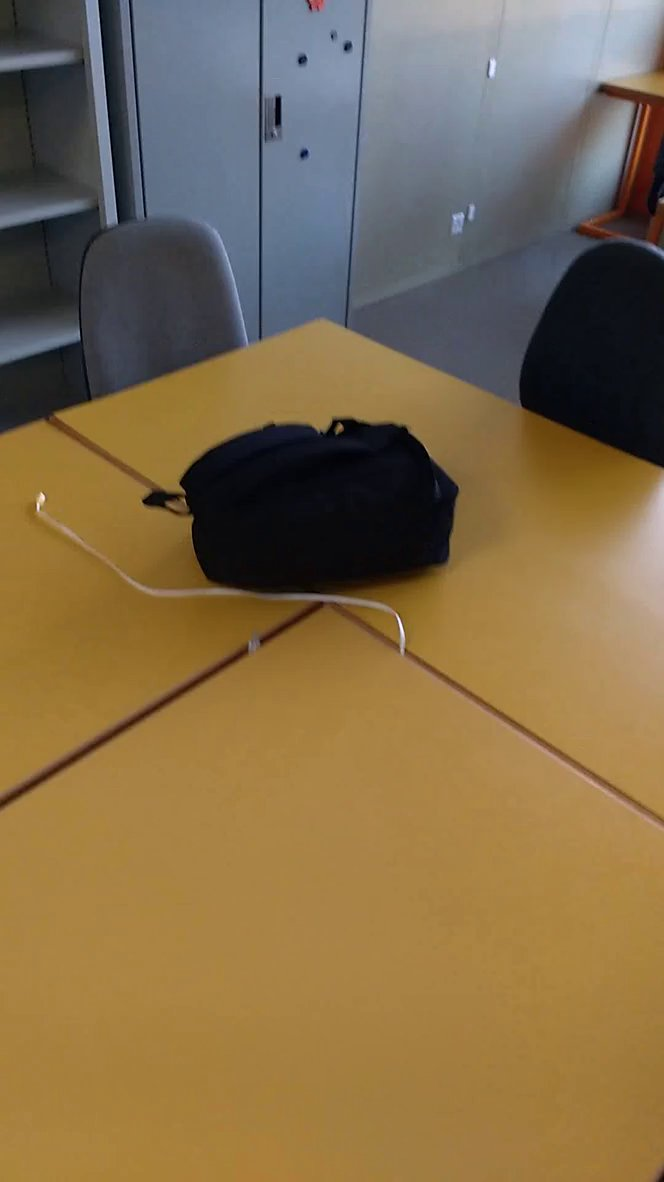bag: (130, 409, 466, 613)
chair: (63, 212, 286, 406), (507, 226, 664, 488)
